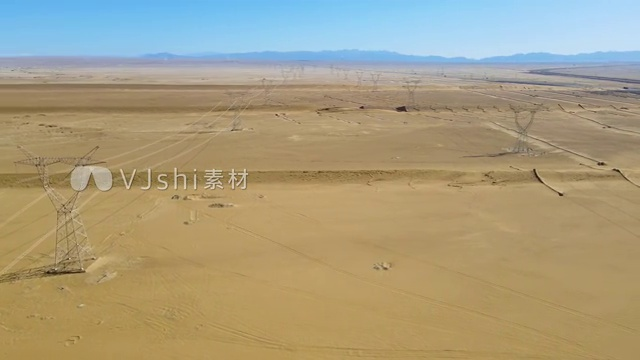tower_body: (10, 141, 110, 276), (506, 101, 538, 156)
tower_foot: (48, 233, 93, 271)
tower_head: (15, 144, 106, 208)
